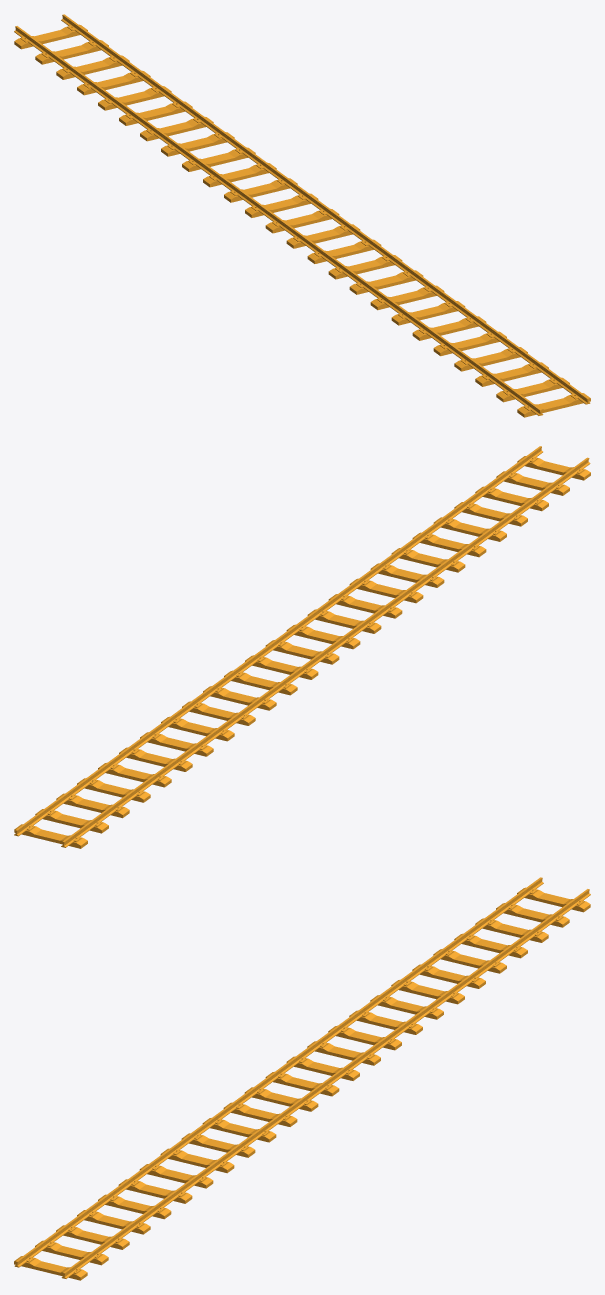
Rendered from SM_Train_Rail_Straight.fbx.
3 views of the same model, one above another, from view 1: azimuth 30°, elevation 25°; view 2: azimuth 150°, elevation 25°; view 3: azimuth 330°, elevation 25° (orthographic).
Parts seen in each view (by area): view 1: SM_Train_Rail_Straight; view 2: SM_Train_Rail_Straight; view 3: SM_Train_Rail_Straight.
Part boxes in pixels (x1=…): SM_Train_Rail_Straight: x1=14, y1=14, x2=590, y2=417; SM_Train_Rail_Straight: x1=14, y1=446, x2=590, y2=848; SM_Train_Rail_Straight: x1=14, y1=877, x2=590, y2=1280.
Size of the model in its own units: 2.2 by 0.3232 by 30.
